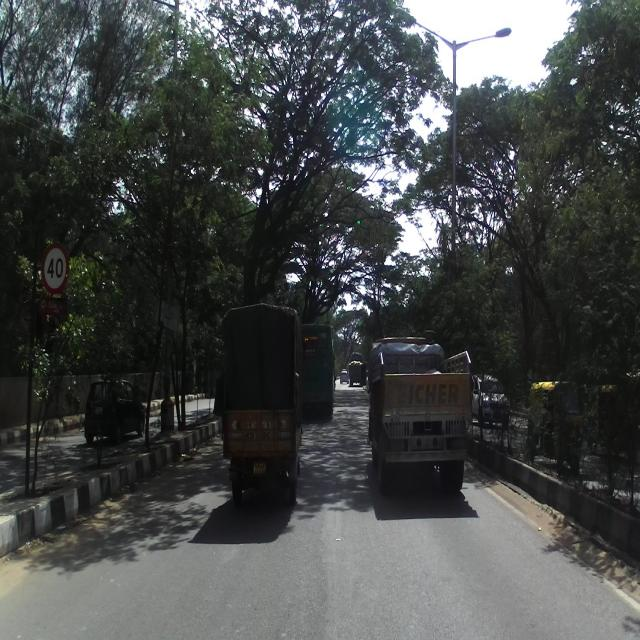autorickshaw: (214, 302, 304, 511), (525, 381, 584, 480), (585, 382, 637, 462)
bus: (300, 318, 336, 426)
car: (84, 377, 144, 447)
truck: (361, 328, 472, 500)
